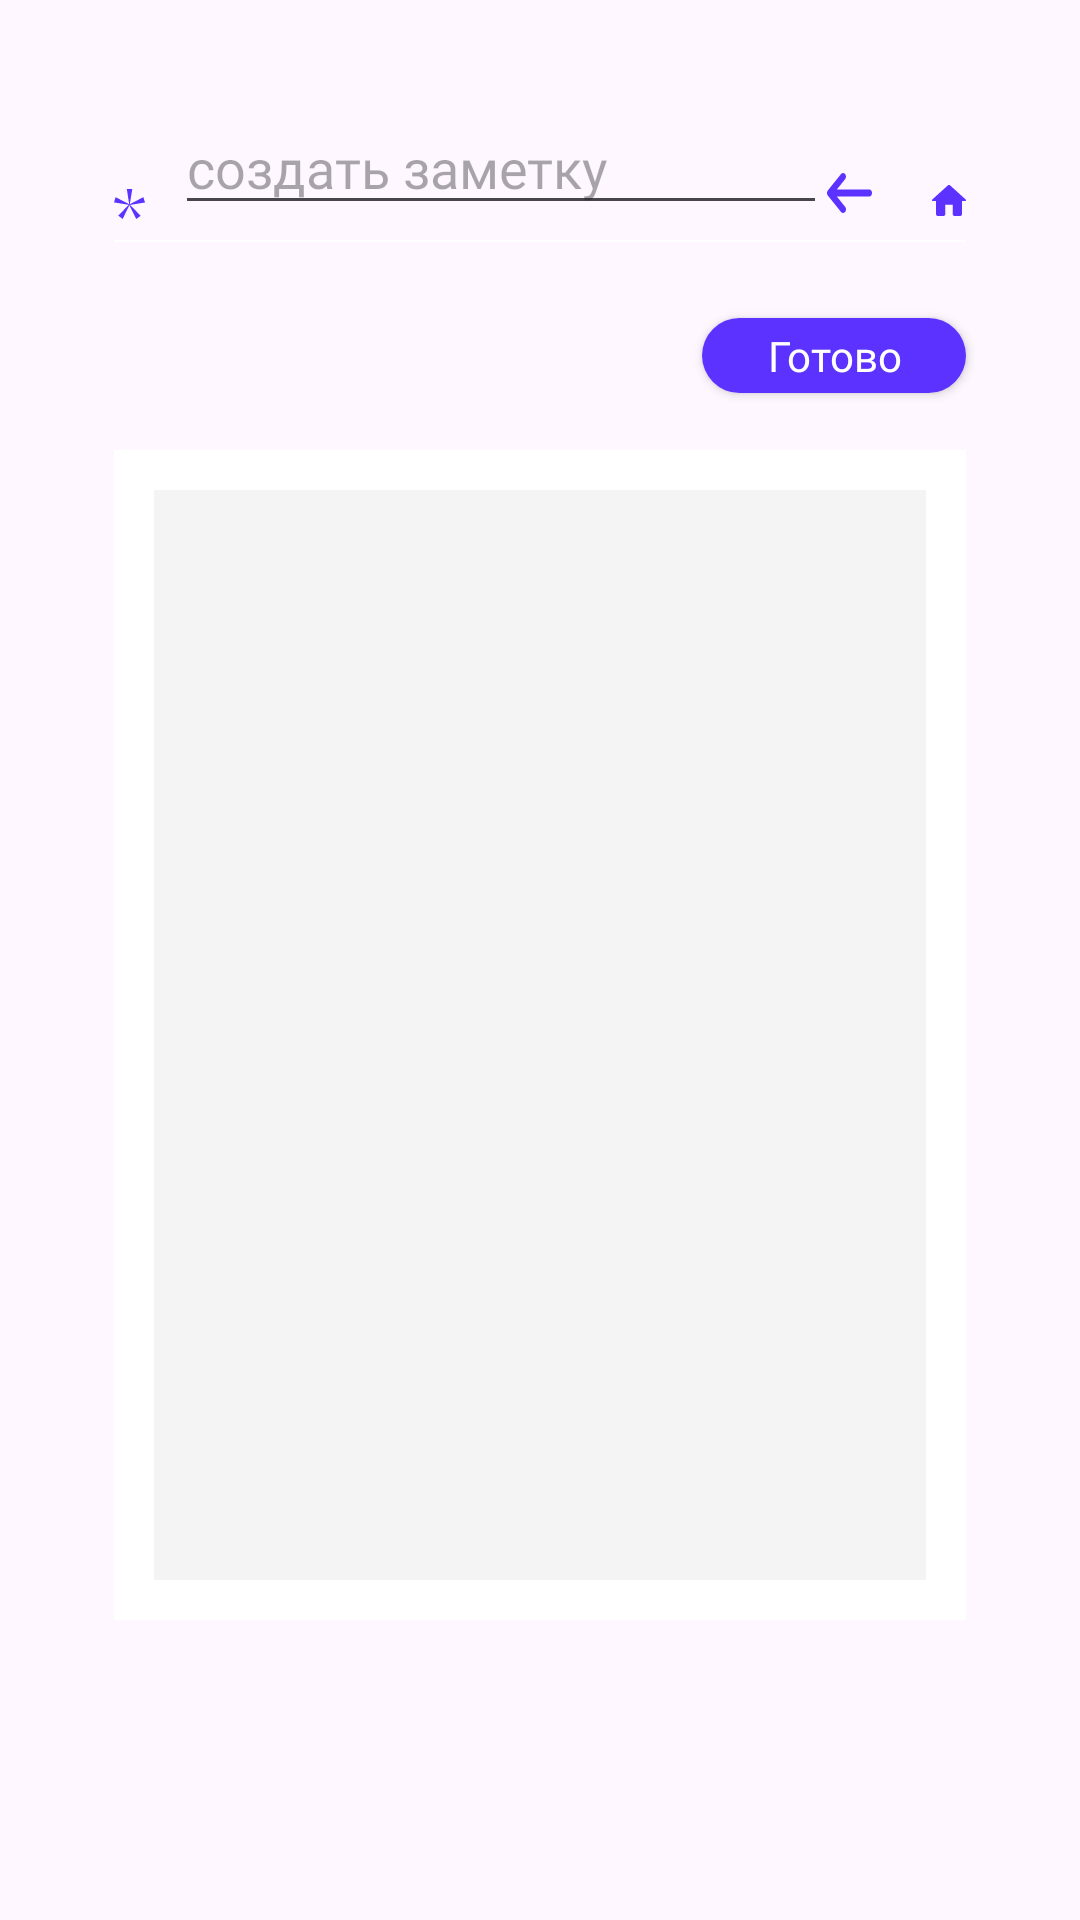

Screen size 1080×1920. Icon name, then its box in pixels as (x1, y1, x2, y2):
Иконка звезды для заметок: (114, 189, 145, 219)
